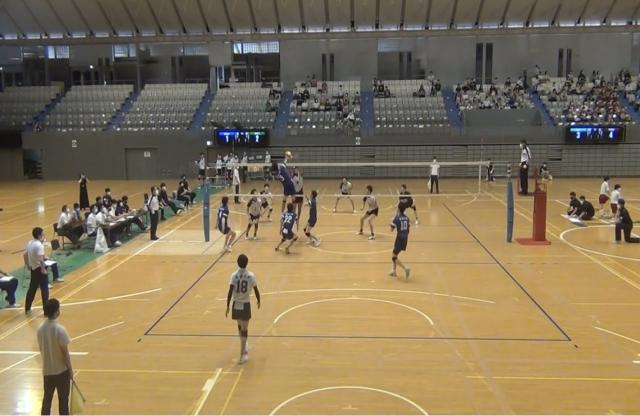spike: (268, 149, 303, 229)
